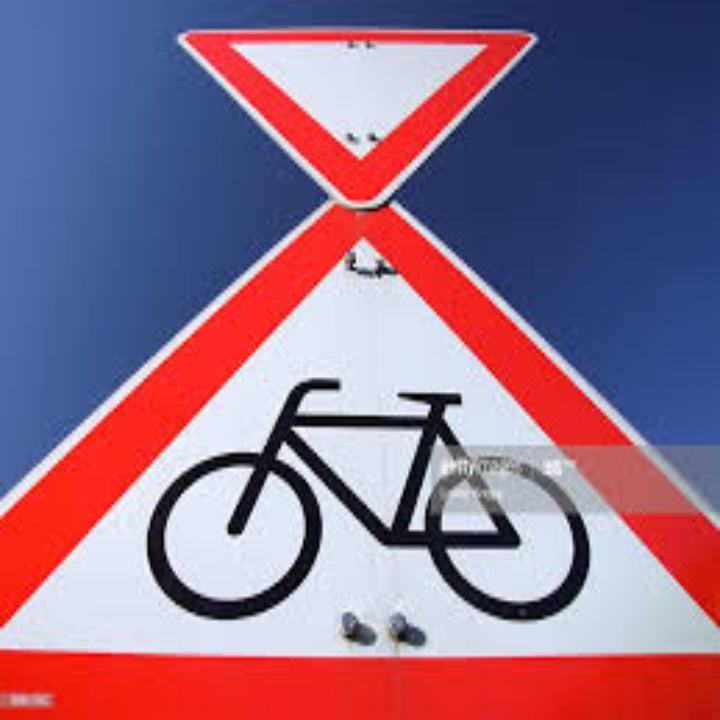bicycle: (143, 376, 591, 623)
